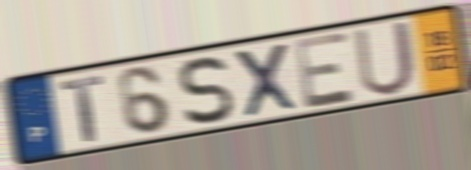6: (116, 63, 174, 139)
E: (291, 28, 359, 112)
S: (177, 53, 237, 127)
T: (58, 73, 107, 145)
U: (351, 17, 418, 99)
X: (230, 40, 302, 121)
